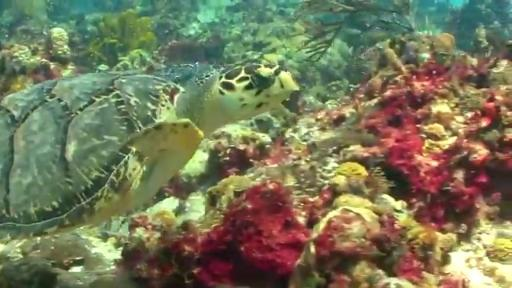Fish: (0, 65, 299, 240)
